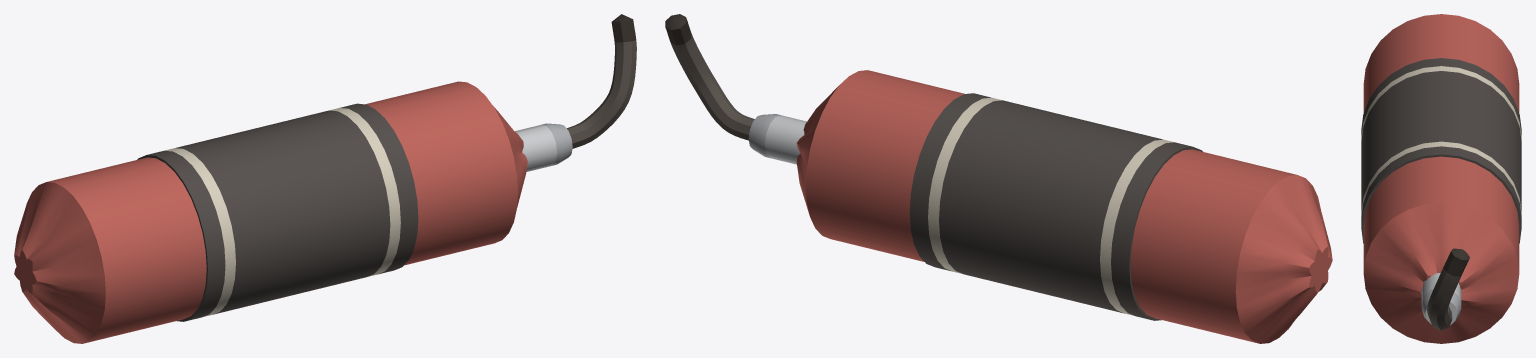
The model's file is dynamite_d_stick_red.glb.
The picture shows the model from 3 angles, left to right: view 1: azimuth 30°, elevation 25°; view 2: azimuth 150°, elevation 25°; view 3: azimuth 270°, elevation 25°; orthographic projection. The views are drawn at different scales.
Parts seen in each view (by area): view 1: Dynamite; view 2: Dynamite; view 3: Dynamite.
Part boxes in pixels (x1,y1,x2,y2): Dynamite: (14, 14, 636, 343); Dynamite: (665, 14, 1332, 343); Dynamite: (1361, 14, 1521, 343).
Bounding box in the file's own units: 0.7039 × 0.1956 × 0.169.
